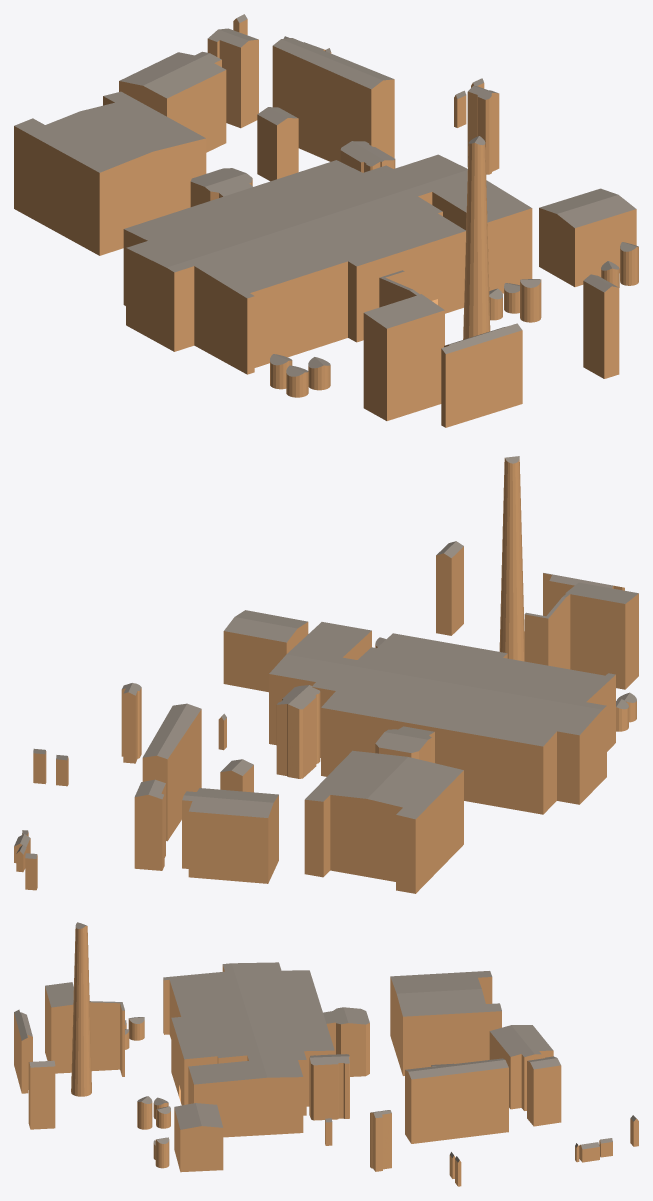
The model's file is PowerPlant.fbx.
The picture shows the model from 3 angles, top to bottom: view 1: azimuth 30°, elevation 25°; view 2: azimuth 150°, elevation 25°; view 3: azimuth 270°, elevation 25°; orthographic projection. The views are drawn at different scales.
Parts seen in each view (by area): view 1: map_17.osm_buildings.002, map_17.osm_buildings, map_17.osm_buildings.014, map_17.osm_buildings.026, map_17.osm_buildings.013, map_17.osm_buildings.028, map_17.osm_buildings.015, map_17.osm_buildings.016, map_17.osm_buildings.027, map_17.osm_buildings.021, map_17.osm_buildings.020, map_17.osm_buildings.012 (+7 smaller); view 2: map_17.osm_buildings.002, map_17.osm_buildings, map_17.osm_buildings.026, map_17.osm_buildings.015, map_17.osm_buildings.014, map_17.osm_buildings.013, map_17.osm_buildings.016, map_17.osm_buildings.008, map_17.osm_buildings.021, map_17.osm_buildings.027, map_17.osm_buildings.001, map_17.osm_buildings.012 (+2 smaller); view 3: map_17.osm_buildings.002, map_17.osm_buildings, map_17.osm_buildings.014, map_17.osm_buildings.026, map_17.osm_buildings.013, map_17.osm_buildings.016, map_17.osm_buildings.015, map_17.osm_buildings.008, map_17.osm_buildings.001, map_17.osm_buildings.021, map_17.osm_buildings.027, map_17.osm_buildings.012 (+4 smaller).
Boxes of the visible parts, x1,y1,x2,y2 form: map_17.osm_buildings.002: [123, 154, 532, 374]; map_17.osm_buildings: [14, 91, 206, 255]; map_17.osm_buildings.014: [272, 38, 394, 161]; map_17.osm_buildings.026: [363, 270, 444, 420]; map_17.osm_buildings.013: [539, 188, 636, 286]; map_17.osm_buildings.028: [441, 323, 522, 427]; map_17.osm_buildings.015: [119, 51, 226, 152]; map_17.osm_buildings.016: [463, 136, 490, 339]; map_17.osm_buildings.027: [583, 274, 619, 378]; map_17.osm_buildings.021: [207, 28, 258, 128]; map_17.osm_buildings.020: [257, 107, 298, 181]; map_17.osm_buildings.012: [467, 85, 499, 174]; map_17.osm_buildings.002: [269, 622, 615, 814]; map_17.osm_buildings: [304, 750, 463, 893]; map_17.osm_buildings.026: [524, 582, 638, 689]; map_17.osm_buildings.015: [182, 788, 278, 883]; map_17.osm_buildings.014: [142, 703, 201, 841]; map_17.osm_buildings.013: [223, 610, 308, 692]; map_17.osm_buildings.016: [499, 456, 524, 661]; map_17.osm_buildings.008: [276, 685, 320, 778]; map_17.osm_buildings.021: [134, 779, 165, 870]; map_17.osm_buildings.027: [436, 541, 463, 635]; map_17.osm_buildings.001: [375, 726, 434, 762]; map_17.osm_buildings.012: [121, 683, 141, 763]; map_17.osm_buildings.002: [163, 962, 334, 1137]; map_17.osm_buildings: [390, 971, 501, 1075]; map_17.osm_buildings.014: [405, 1058, 508, 1143]; map_17.osm_buildings.026: [45, 982, 124, 1076]; map_17.osm_buildings.013: [174, 1103, 223, 1172]; map_17.osm_buildings.016: [71, 922, 91, 1096]; map_17.osm_buildings.015: [489, 1025, 553, 1110]; map_17.osm_buildings.008: [309, 1054, 349, 1120]; map_17.osm_buildings.001: [323, 1007, 369, 1076]; map_17.osm_buildings.021: [527, 1056, 561, 1126]; map_17.osm_buildings.027: [28, 1060, 55, 1129]; map_17.osm_buildings.012: [370, 1110, 391, 1171].
Size of the model in its own units: 37953 by 17646 by 59370.
